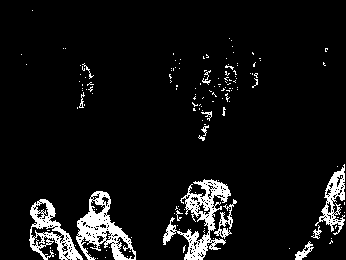person: (295, 164, 346, 260), (75, 190, 136, 260), (29, 199, 83, 260), (190, 71, 218, 141)
